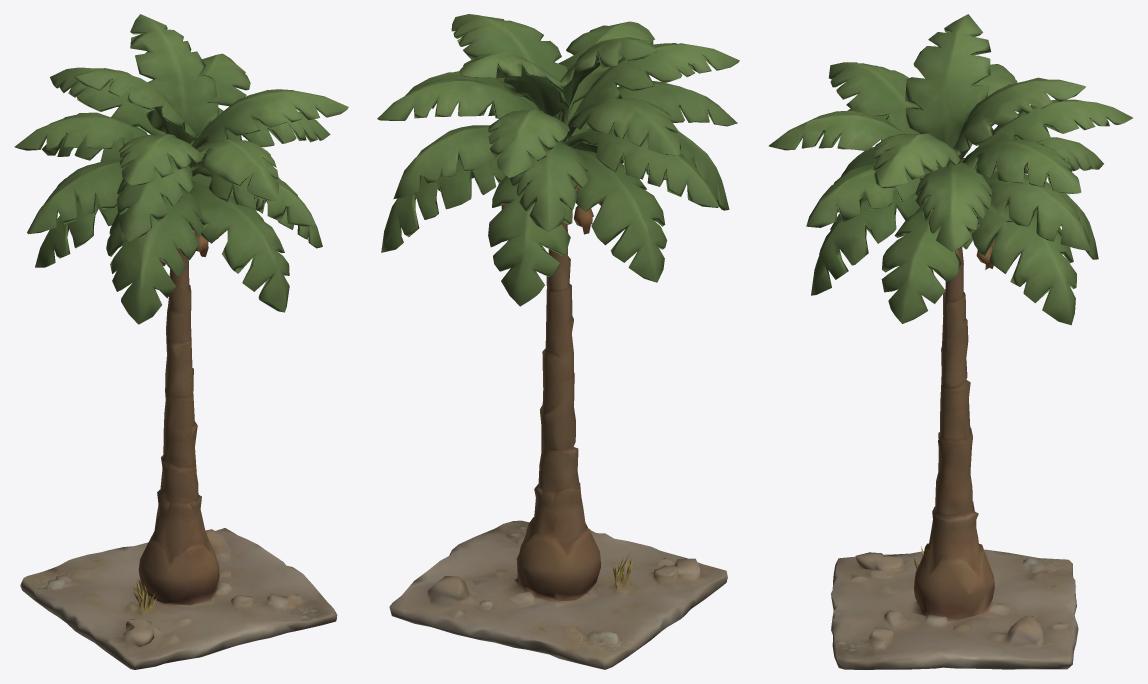
The model's file is journey_palm.glb.
3 views of the same model, side by side, from view 1: azimuth 30°, elevation 25°; view 2: azimuth 150°, elevation 25°; view 3: azimuth 270°, elevation 25° (orthographic). The views are drawn at different scales.
Parts seen in each view (by area): view 1: tripo_node_38bb95ed-a018-4ad2-bdb5-4c596c415d0f; view 2: tripo_node_38bb95ed-a018-4ad2-bdb5-4c596c415d0f; view 3: tripo_node_38bb95ed-a018-4ad2-bdb5-4c596c415d0f.
Boxes of the visible parts, x1=… form: tripo_node_38bb95ed-a018-4ad2-bdb5-4c596c415d0f: x1=14, y1=14, x2=348, y2=669; tripo_node_38bb95ed-a018-4ad2-bdb5-4c596c415d0f: x1=377, y1=14, x2=739, y2=669; tripo_node_38bb95ed-a018-4ad2-bdb5-4c596c415d0f: x1=769, y1=14, x2=1132, y2=669.
Size of the model in its own units: 0.572 by 1 by 0.5903.
Materials: 1 (1 with a texture image).
